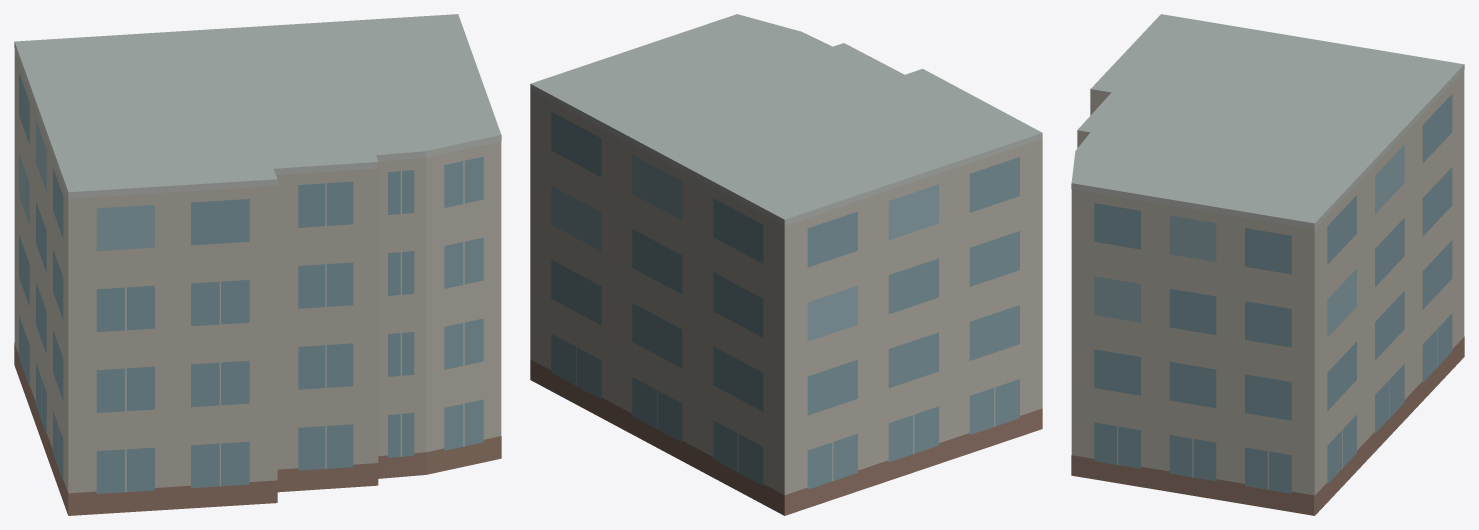
The model's file is survey-upis-32965504.glb.
The picture shows the model from 3 angles, left to right: view 1: azimuth 30°, elevation 25°; view 2: azimuth 150°, elevation 25°; view 3: azimuth 270°, elevation 25°; orthographic projection. The views are drawn at different scales.
Parts seen in each view (by area): view 1: survey-upis-32965504.tmp; view 2: survey-upis-32965504.tmp; view 3: survey-upis-32965504.tmp.
Part boxes in pixels (left/top/right/bottom): survey-upis-32965504.tmp: left=14, top=14, right=501, bottom=515; survey-upis-32965504.tmp: left=530, top=14, right=1042, bottom=515; survey-upis-32965504.tmp: left=1071, top=14, right=1464, bottom=515.
Size of the model in its own units: 18.74 by 12.2 by 14.87.
